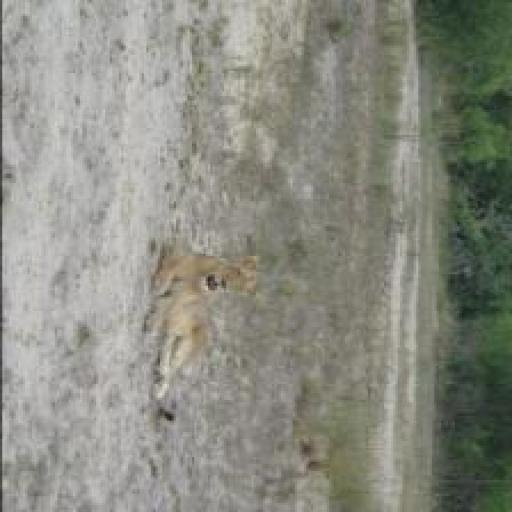lion: (128, 238, 271, 431)
